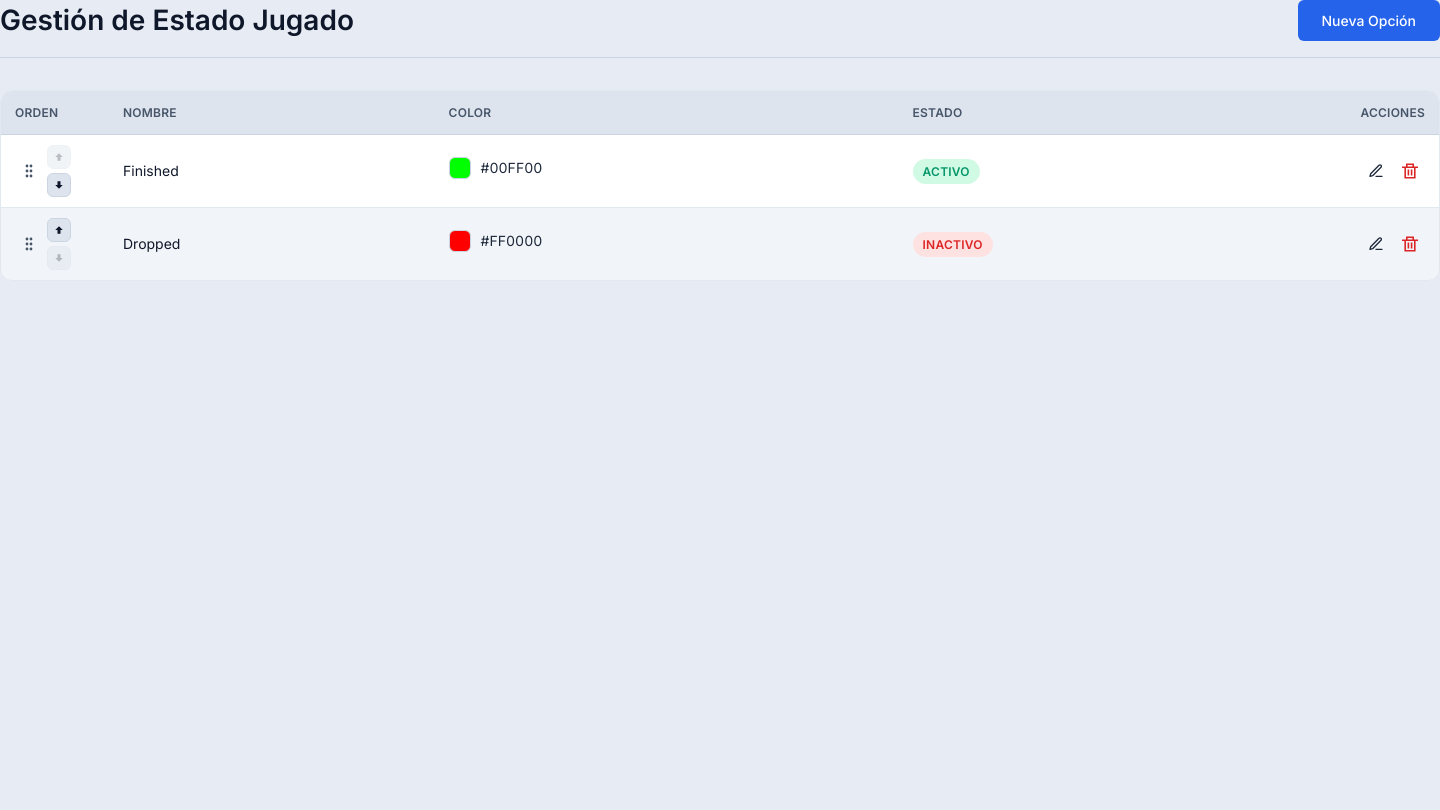
Scenario: AdminPlayedStatus › opens create modal
This screenshot has width=1440, height=810.
Click the button "Nueva Opción" at (1369, 20), box [1298,0,1439,41]
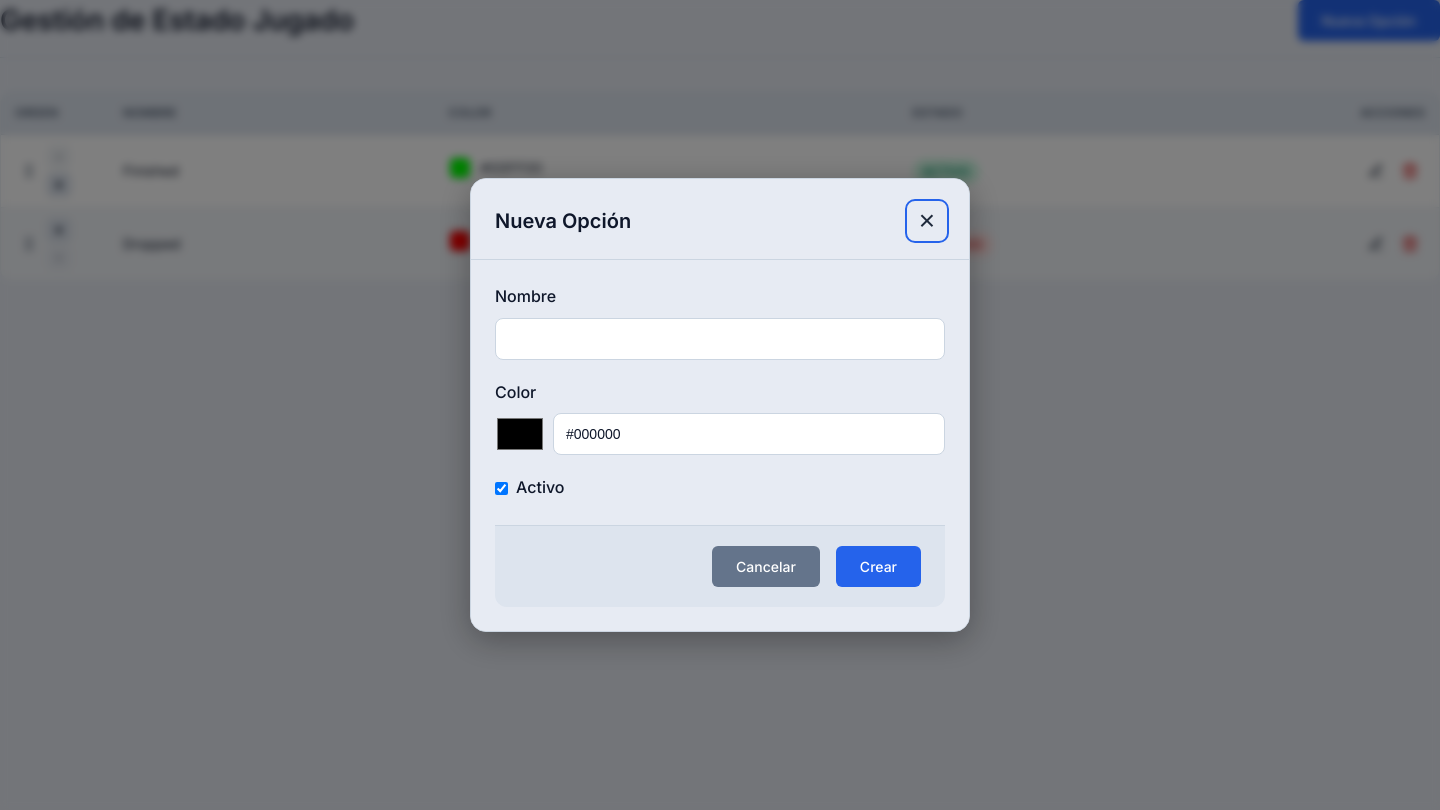
Now the heading "Nueva Opción" is shown, box [495,209,631,233]
